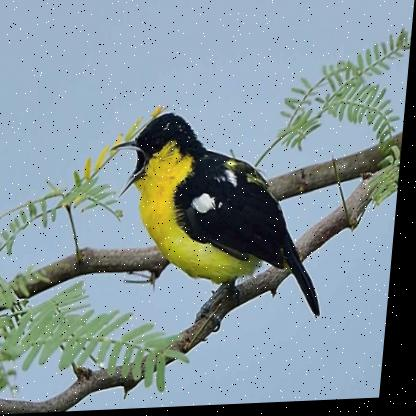Burung: (101, 108, 343, 329)
